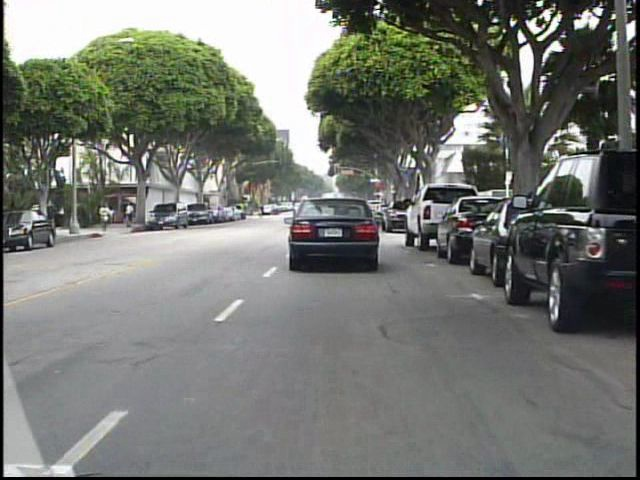person: (98, 199, 115, 237), (123, 198, 138, 231), (258, 200, 270, 221)
